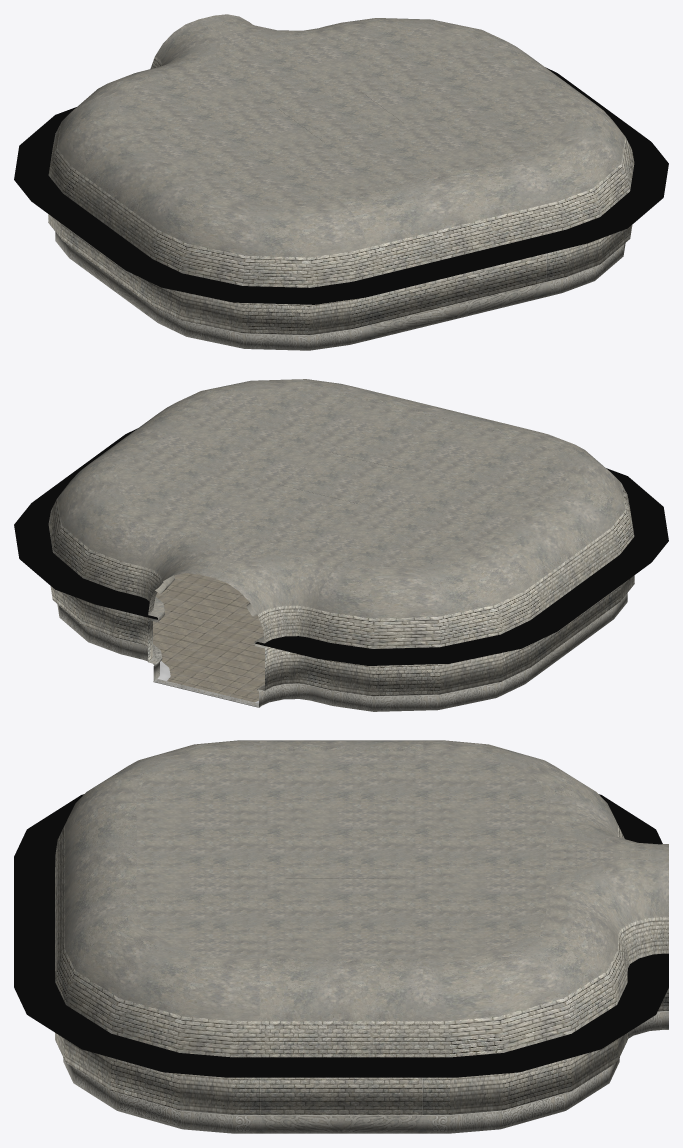
File: dungeon_room_01.fbx
3 renders of one model, top to bottom at view 1: azimuth 30°, elevation 25°; view 2: azimuth 150°, elevation 25°; view 3: azimuth 270°, elevation 25°, orthographic. The views are drawn at different scales.
Parts seen in each view (by area): view 1: dungeon_room_01_Roof, dungeon_room_01_Wall; view 2: dungeon_room_01_Roof, dungeon_room_01_Wall; view 3: dungeon_room_01_Roof, dungeon_room_01_Wall.
Boxes of the visible parts, x1,y1,x2,y2 form: dungeon_room_01_Roof: [48, 14, 634, 287]; dungeon_room_01_Wall: [14, 67, 668, 350]; dungeon_room_01_Roof: [48, 379, 634, 648]; dungeon_room_01_Wall: [14, 428, 668, 711]; dungeon_room_01_Roof: [55, 740, 668, 1057]; dungeon_room_01_Wall: [14, 794, 668, 1133].
Bounding box in the file's own units: 270 × 58.19 × 240.
